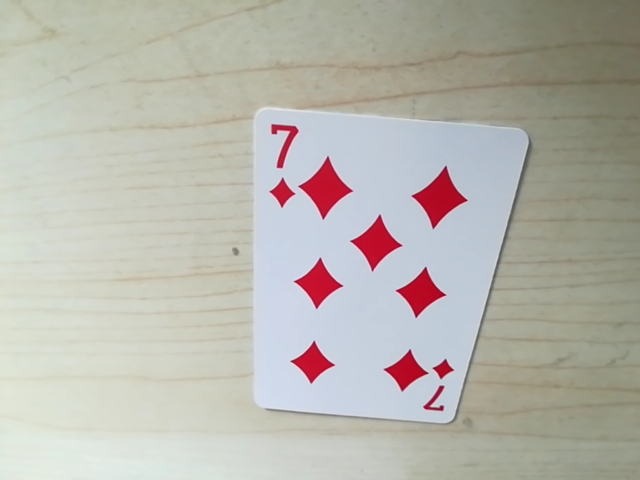fk 7: (418, 363, 454, 423), (263, 112, 303, 146)
